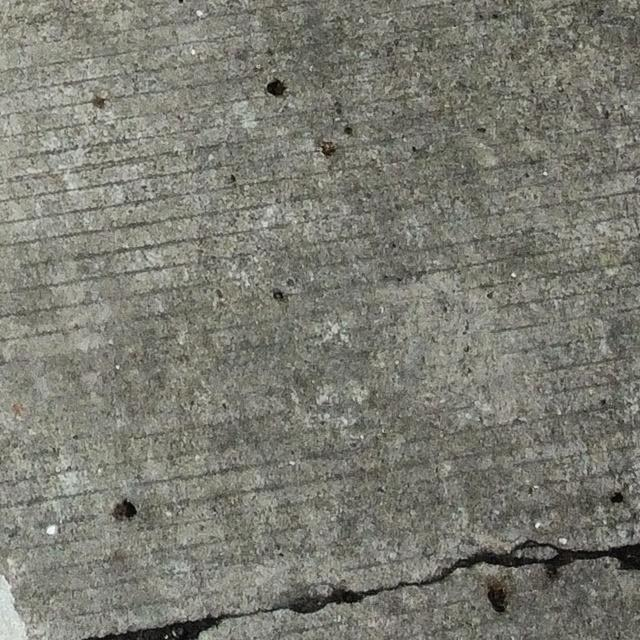TransverseCrack: (81, 538, 640, 639)
